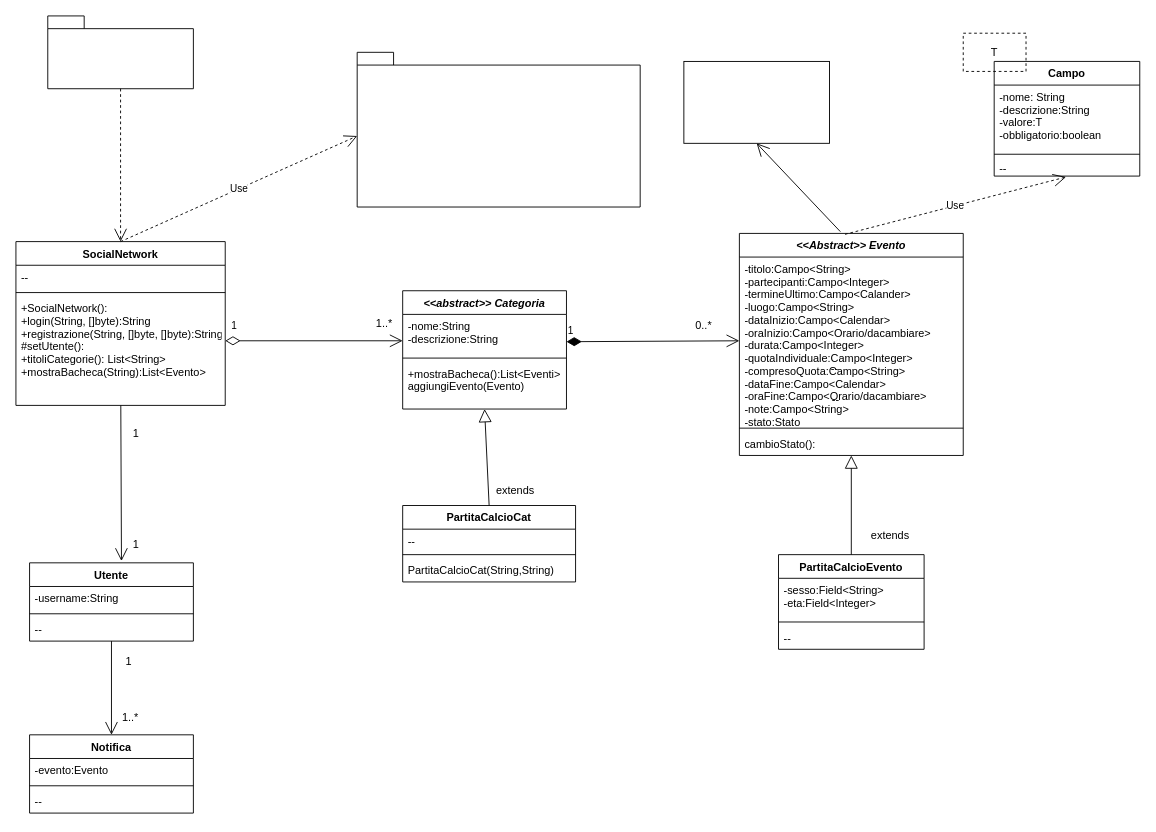
Some shapes in this 1156 by 832 pixel diagram are drawn without their labels. The shapes that lost their labels are listed below. From the top down, each one's centre as x and y in pixels, then its label:
(120,52): InterfacciaUtente
(756,102): <<enumeration>> Stato Aperto Chiuso Fallito Concluso
(498,129): I0Disco
